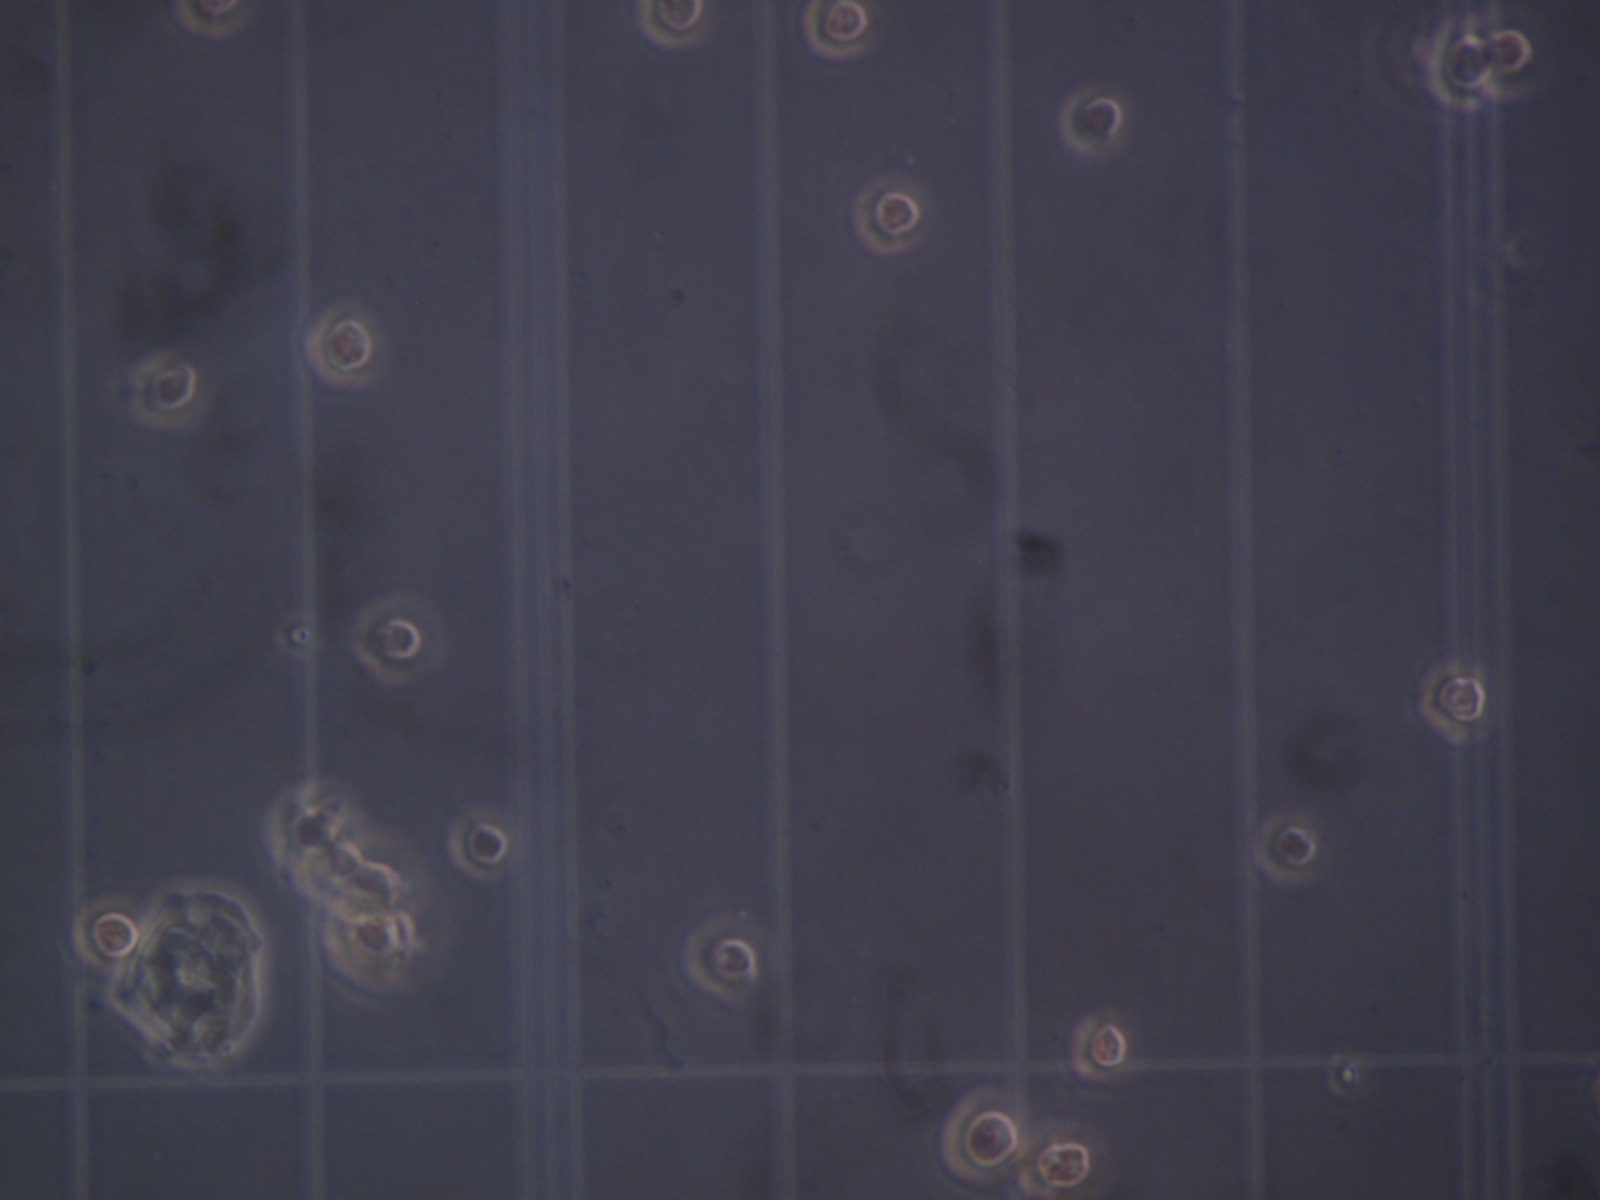hemo: (345, 831, 433, 926), (270, 779, 364, 863), (1015, 1118, 1112, 1200), (323, 906, 417, 989), (940, 1088, 1023, 1182), (683, 916, 758, 1003), (351, 594, 421, 684), (1424, 21, 1490, 110), (305, 305, 375, 387), (1419, 662, 1487, 744), (129, 354, 198, 429), (850, 182, 920, 256), (1484, 11, 1540, 102), (285, 846, 370, 903), (71, 900, 139, 971), (1254, 813, 1318, 885), (447, 811, 509, 882), (1058, 89, 1123, 156), (803, 3, 876, 59), (1070, 1015, 1128, 1082), (637, 3, 708, 48), (175, 1, 252, 38), (1592, 1066, 1600, 1122)
